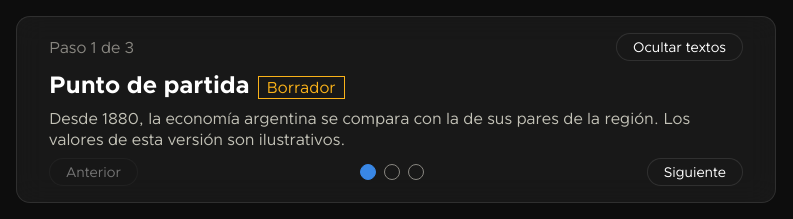
Test: StoryCaption › Previous goes back and is disabled at the first step
Expected: the button "Anterior" is disabled, [49,158,138,186]
Click the button "Siguiente": (695, 172) [647,158,743,186]
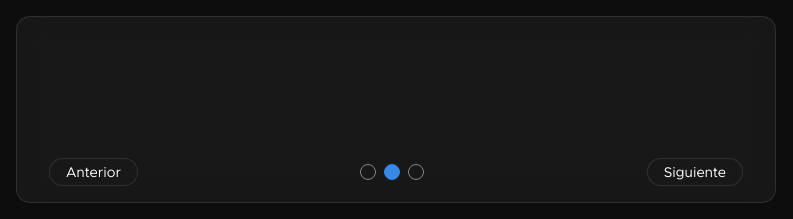
Expected: the button "Anterior" is enabled
Click the button "Anterior": (94, 172) [49,158,138,186]
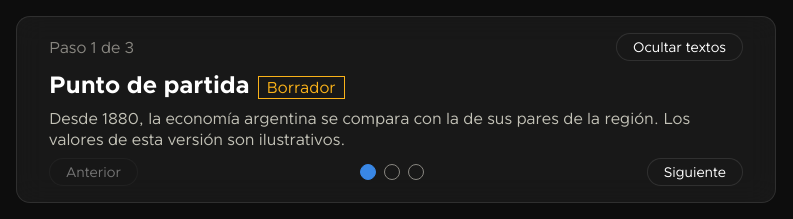
Expected: the button "Anterior" is disabled, [49,158,138,186]
